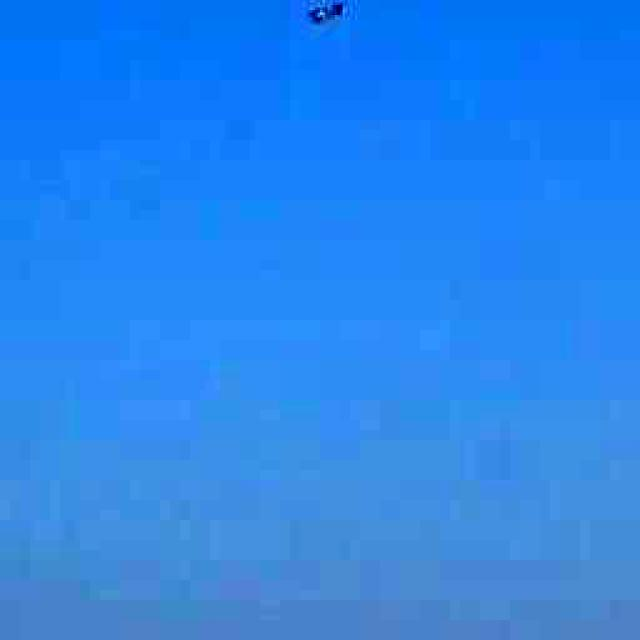bird: (272, 0, 370, 58)
